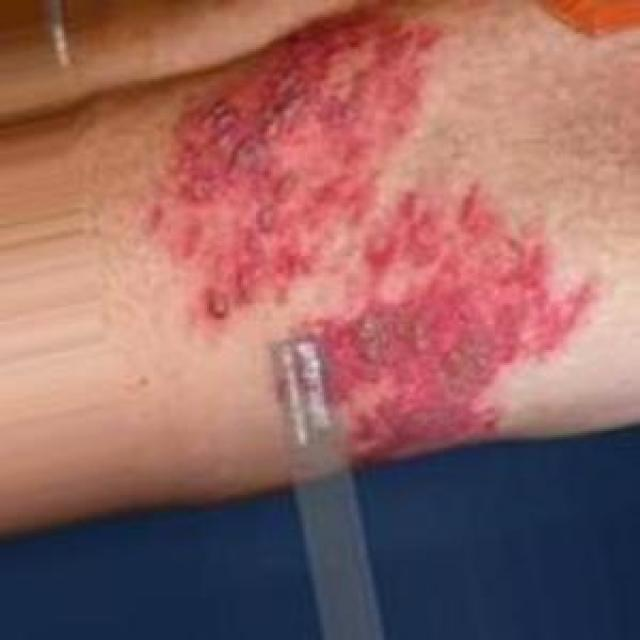Shingles: (144, 5, 440, 320), (308, 191, 588, 470)
